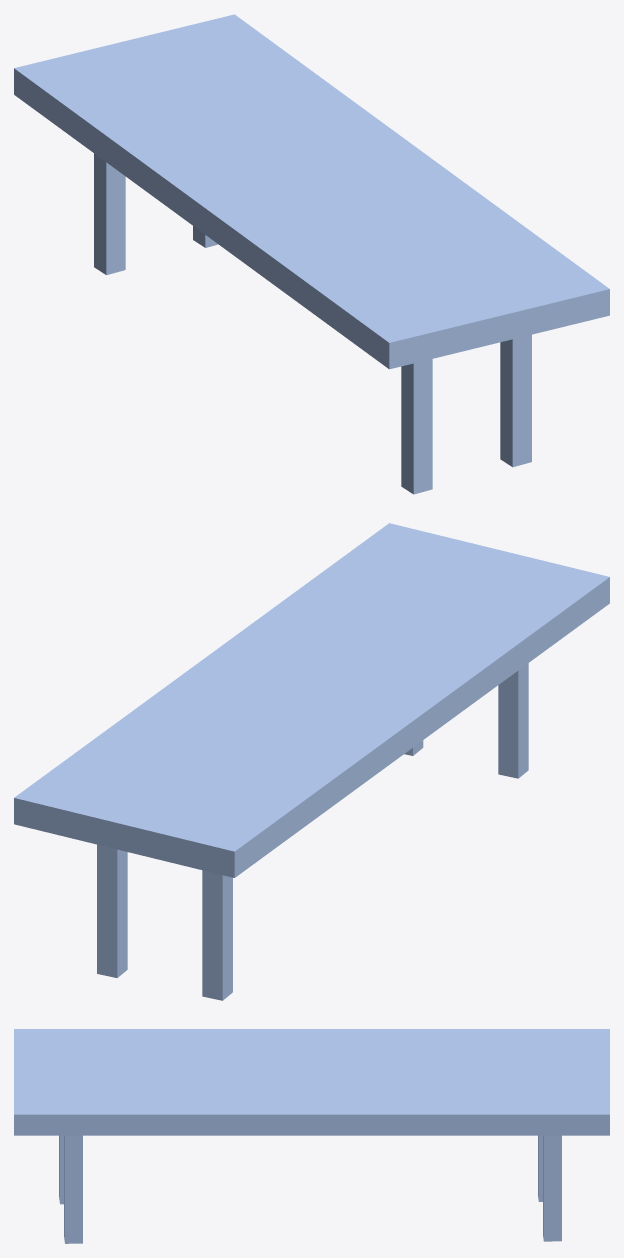
3 views of the same model, one above another, from view 1: azimuth 30°, elevation 25°; view 2: azimuth 150°, elevation 25°; view 3: azimuth 270°, elevation 25° (orthographic). The views are drawn at different scales.
Parts seen in each view (by area): view 1: OB3_3; view 2: OB3_3; view 3: OB3_3.
Part boxes in pixels (left/top/right/bottom): OB3_3: left=14, top=14, right=609, bottom=494; OB3_3: left=14, top=523, right=609, bottom=1000; OB3_3: left=14, top=1029, right=609, bottom=1243.
Bounding box in the file's own units: 1 × 0.8025 × 2.95.
Materials: 1 (1 with a texture image).
